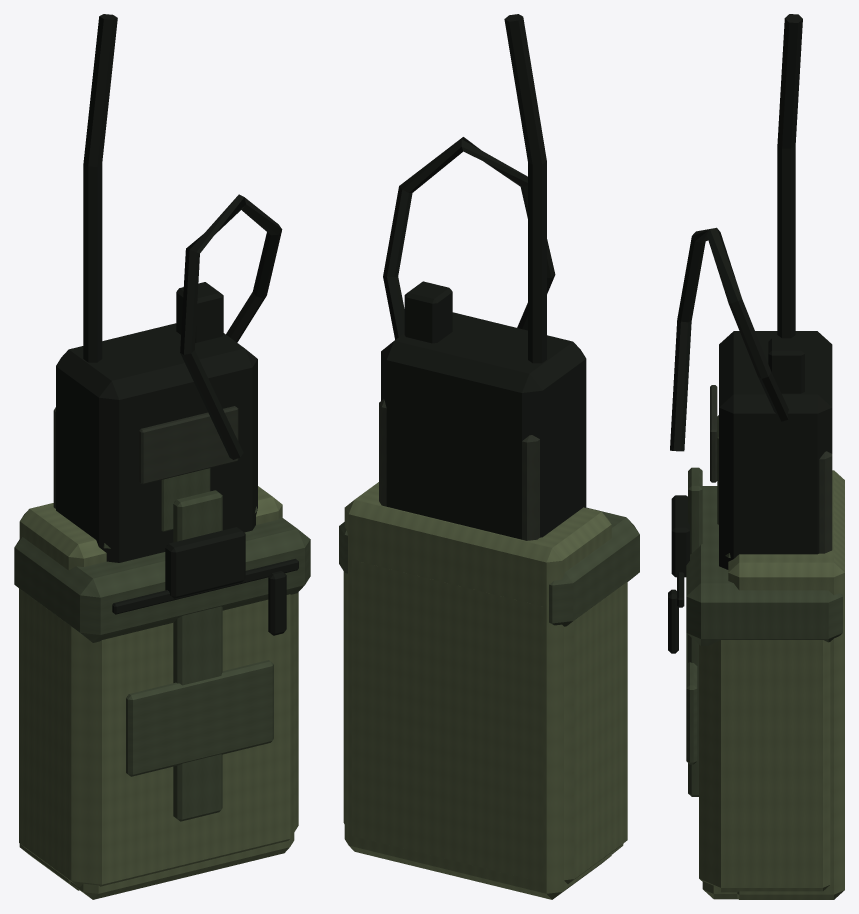
The model's file is recon-pouches.glb.
3 renders of one model, left to right at view 1: azimuth 30°, elevation 25°; view 2: azimuth 150°, elevation 25°; view 3: azimuth 270°, elevation 25°, orthographic. The views are drawn at different scales.
Visible parts, largest first — view 1: Pouch_utility, Pouch_radio, Pouch_magazine; view 2: Pouch_utility, Pouch_radio, Pouch_magazine; view 3: Pouch_utility, Pouch_radio, Pouch_magazine.
Boxes of the visible parts, <box> form: Pouch_utility: <box>14,516,310,887</box>; Pouch_radio: <box>56,14,294,899</box>; Pouch_magazine: <box>19,407,282,890</box>; Pouch_utility: <box>339,507,639,883</box>; Pouch_radio: <box>381,14,623,854</box>; Pouch_magazine: <box>344,399,611,899</box>; Pouch_utility: <box>668,486,842,892</box>; Pouch_radio: <box>670,14,832,899</box>; Pouch_magazine: <box>717,415,844,899</box>.
Size of the model in its own units: 0.071 by 0.2474 by 0.0485.
4 materials, 3 textured.
